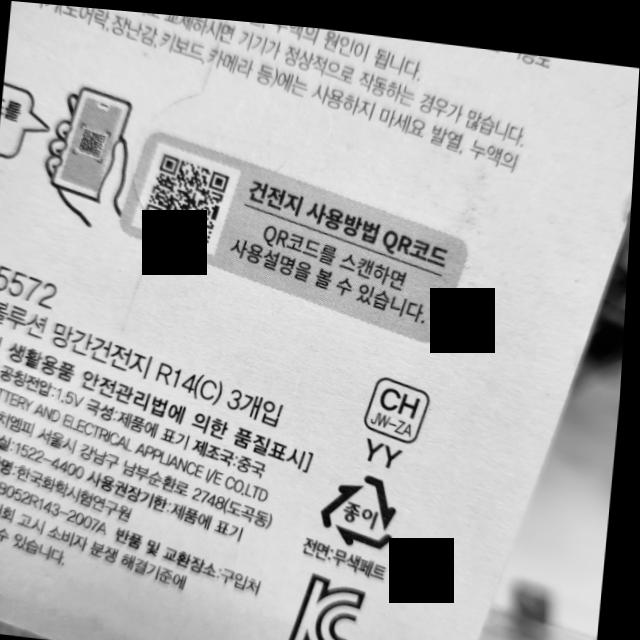Paper: (319, 460, 408, 546)
